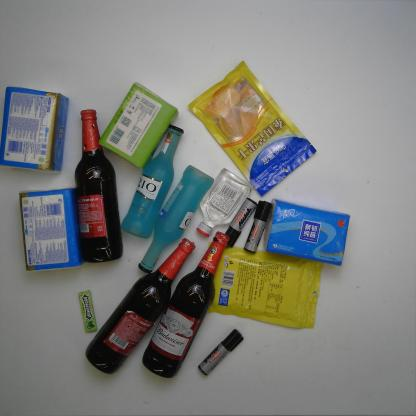Alcohol: (83, 237, 197, 376), (141, 230, 231, 379), (137, 164, 215, 275), (73, 108, 124, 265), (120, 124, 184, 239), (195, 167, 254, 238)
Dried Fruit: (187, 60, 318, 198), (206, 242, 324, 329)
Gum: (78, 289, 98, 333)
Stationery: (198, 328, 244, 377), (224, 197, 258, 248), (242, 200, 272, 254)
Tissue: (97, 80, 179, 170), (1, 84, 70, 174), (262, 198, 351, 267), (18, 185, 87, 272)
